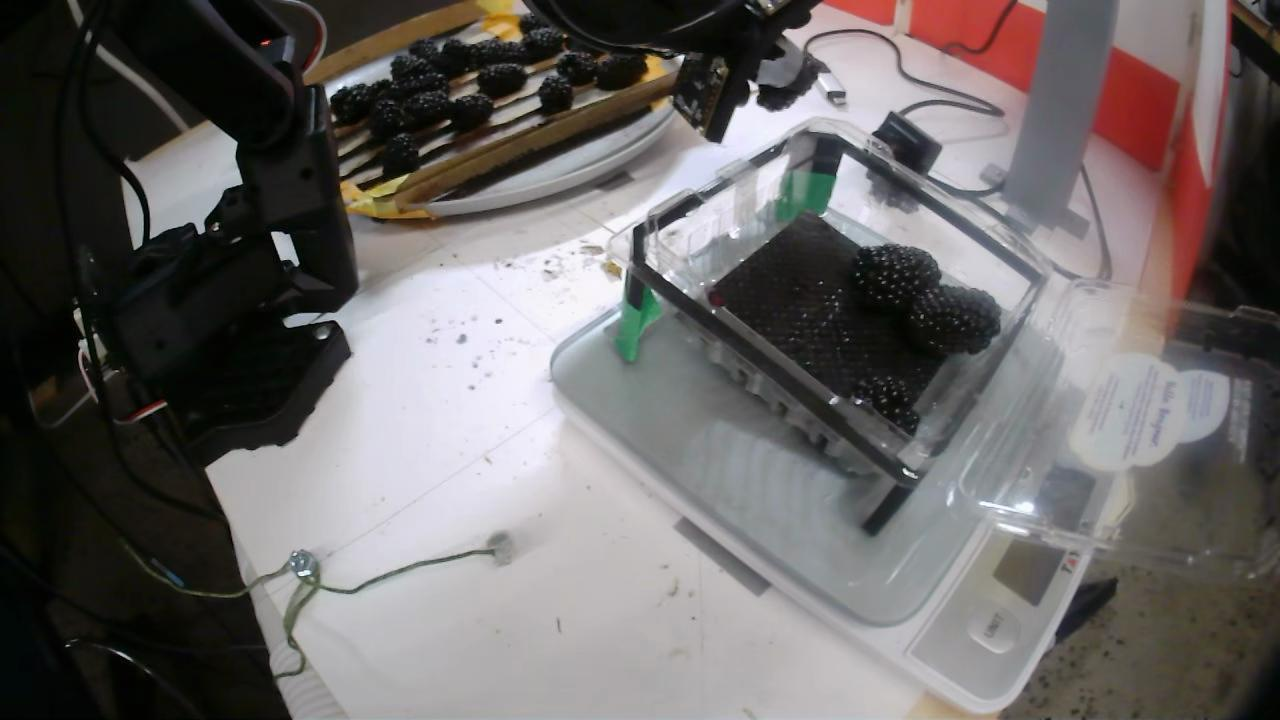berry: (907, 283, 1000, 354), (852, 244, 941, 316), (854, 376, 922, 432), (758, 54, 819, 111), (402, 90, 451, 130), (596, 54, 648, 90), (379, 135, 421, 179), (449, 93, 493, 134), (478, 63, 527, 99), (330, 84, 369, 124), (521, 26, 563, 62), (432, 39, 470, 78), (537, 76, 573, 117), (555, 51, 597, 85), (369, 99, 402, 141), (476, 37, 523, 63), (365, 79, 392, 109), (389, 77, 422, 98), (415, 72, 448, 92), (402, 58, 435, 78), (391, 54, 419, 77), (519, 13, 550, 33), (408, 40, 438, 60)
